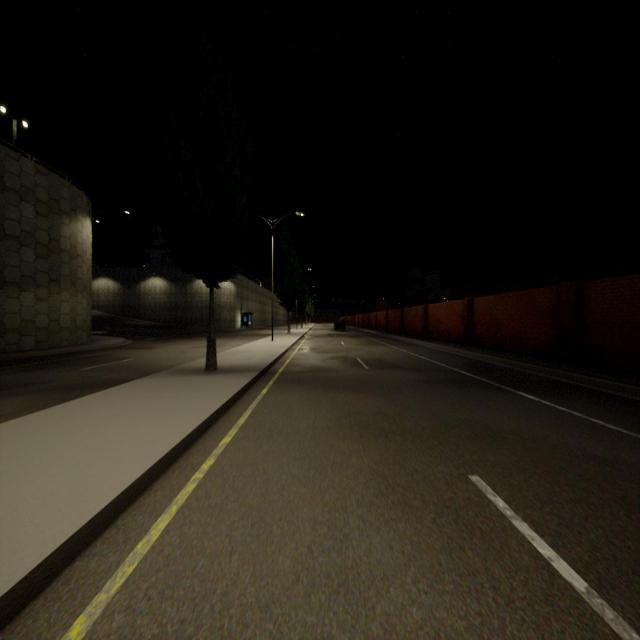Vehicle: (334, 319, 346, 332)
